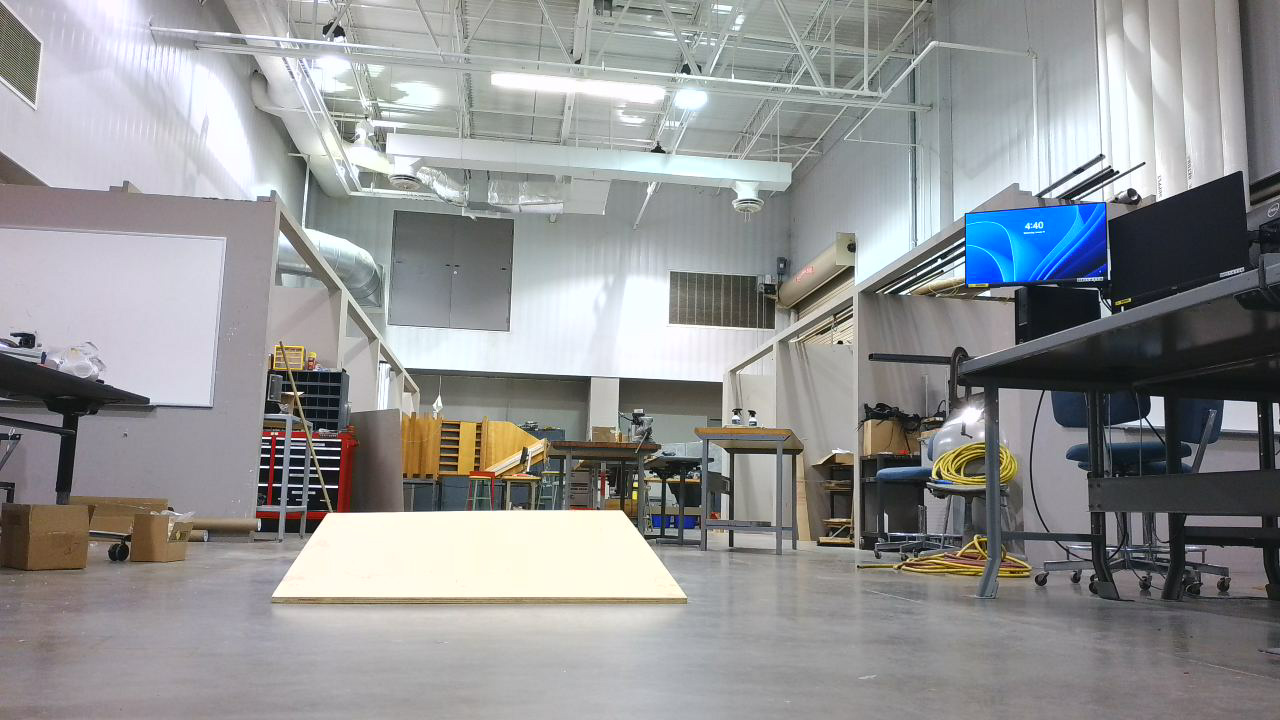ramp: (268, 509, 698, 616)
